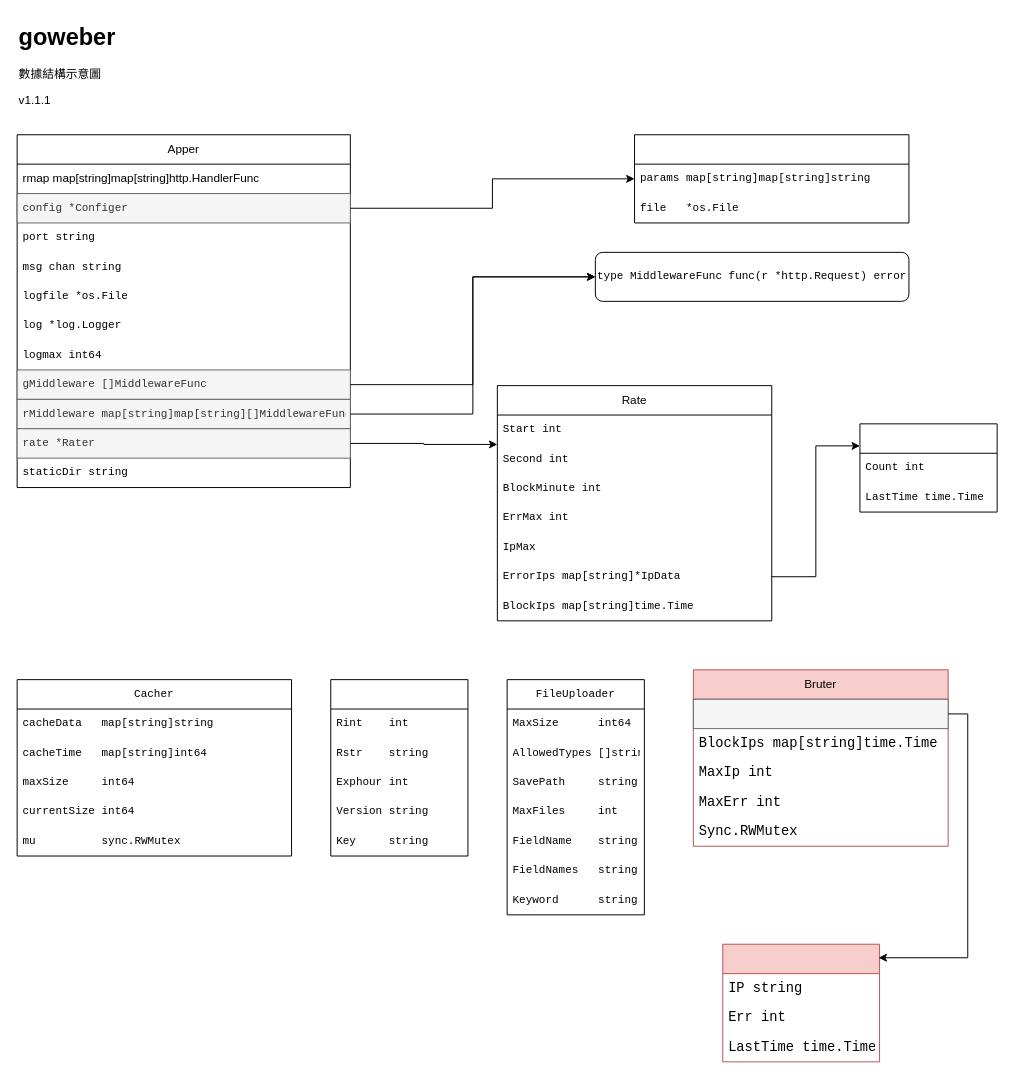
This 1014x1079 diagram has some shape labels left out. Each missing label, with the box of its shape:
BruterIP: (722, 943, 880, 1062)
Configer: (634, 134, 909, 223)
ErrIps map[string]*BruterIP: (692, 698, 948, 729)
IpData: (859, 423, 997, 512)
Jwter: (330, 679, 468, 856)
